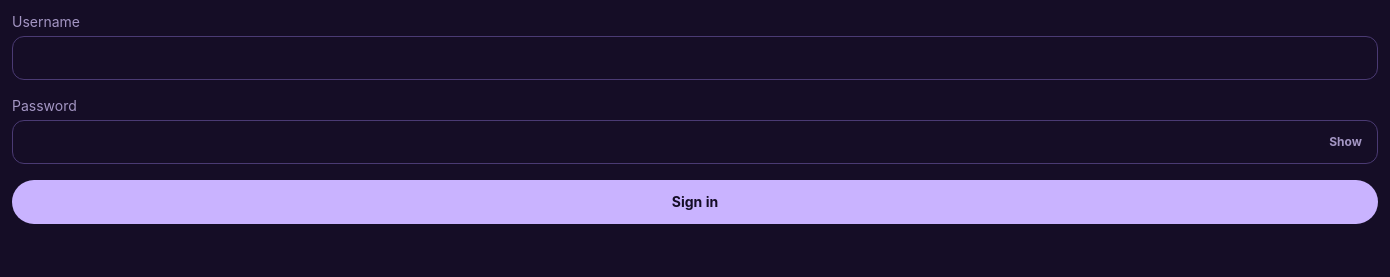
Test: LoginForm › shows the translated API error
Type "kafka" into the field labelled "Username". click: [695, 58]
box: [12,36,1378,80]
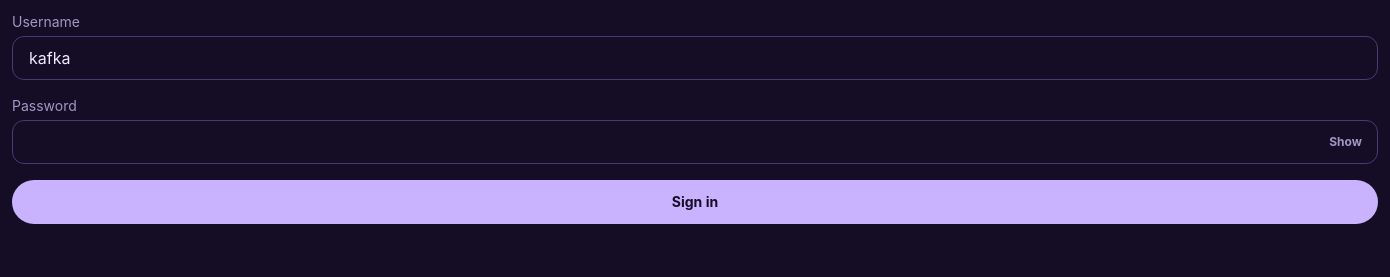
Type "password123" into the password field labelled "Password". click: [695, 142]
box: [12,120,1378,164]
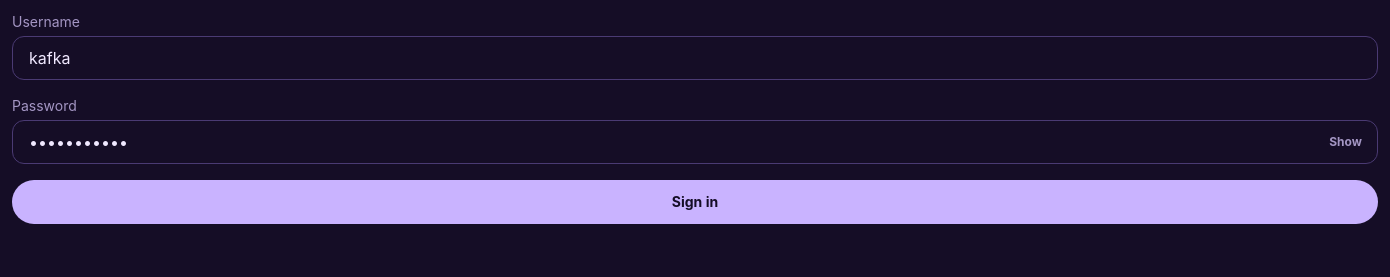
Click the button "Sign in". click: [695, 202]
box: [12,180,1378,224]
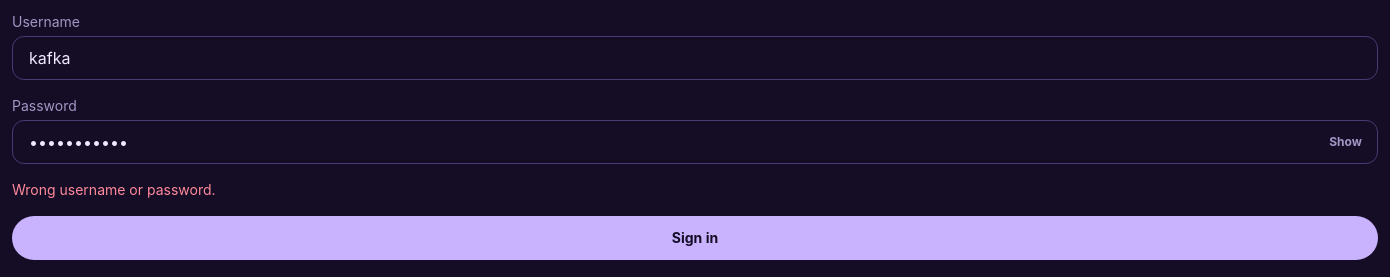
Expected: the message reads "Wrong username or password.", [12,181,216,198]
